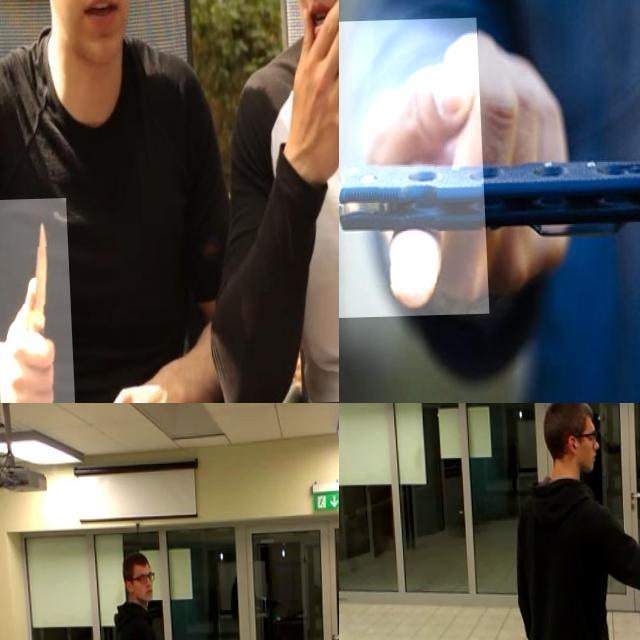-: (339, 20, 535, 324), (0, 198, 69, 403)
